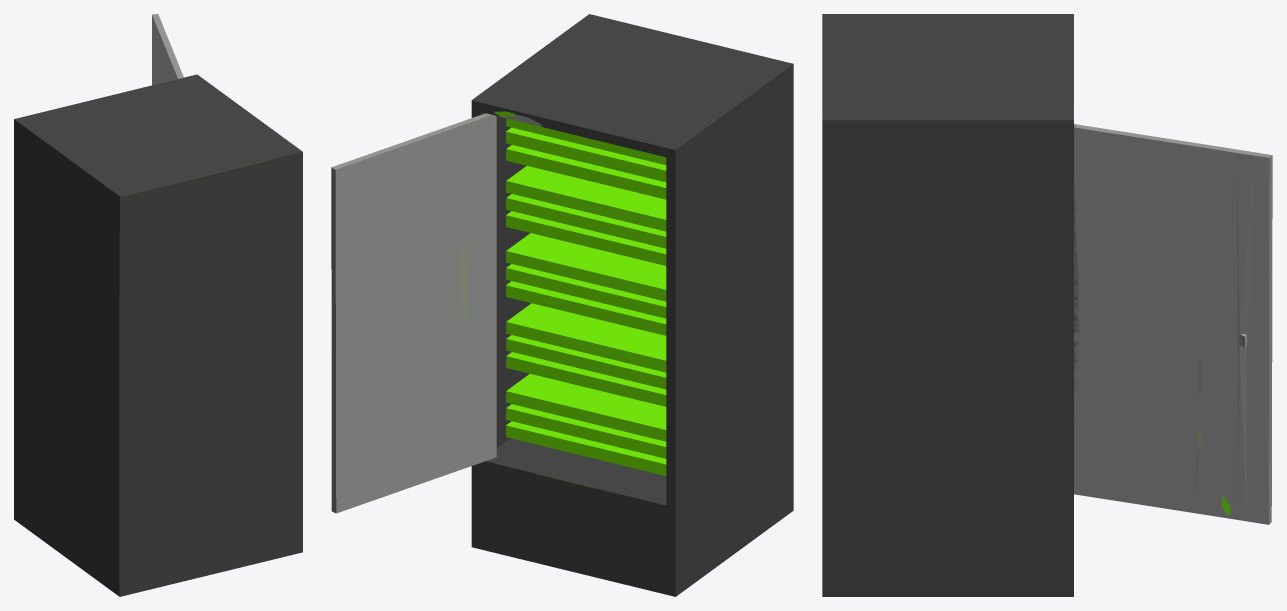
File: schrankOffen.obj
3 views of the same model, side by side, from view 1: azimuth 30°, elevation 25°; view 2: azimuth 150°, elevation 25°; view 3: azimuth 270°, elevation 25° (orthographic). The views are drawn at different scales.
Parts seen in each view (by area): view 1: 300604_23_06_15_12_54_18_1; view 2: 300604_23_06_15_12_54_18_1; view 3: 300604_23_06_15_12_54_18_1.
Part boxes in pixels (<box>): 300604_23_06_15_12_54_18_1: <box>14,14,302,596</box>; 300604_23_06_15_12_54_18_1: <box>331,14,793,596</box>; 300604_23_06_15_12_54_18_1: <box>822,14,1272,596</box>.
Size of the model in its own units: 1.72 by 2.91 by 2.49.
1 material, 1 textured.
